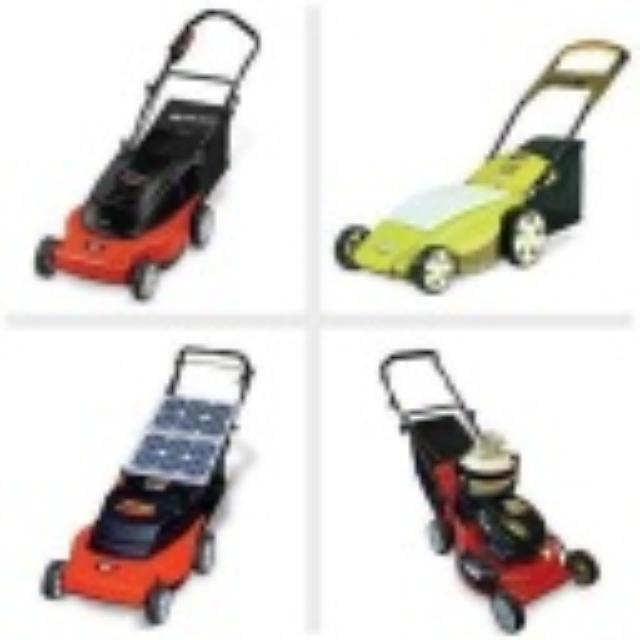Rotary-Mower: (330, 34, 630, 290), (30, 4, 260, 300), (376, 346, 600, 630), (41, 340, 256, 624)
